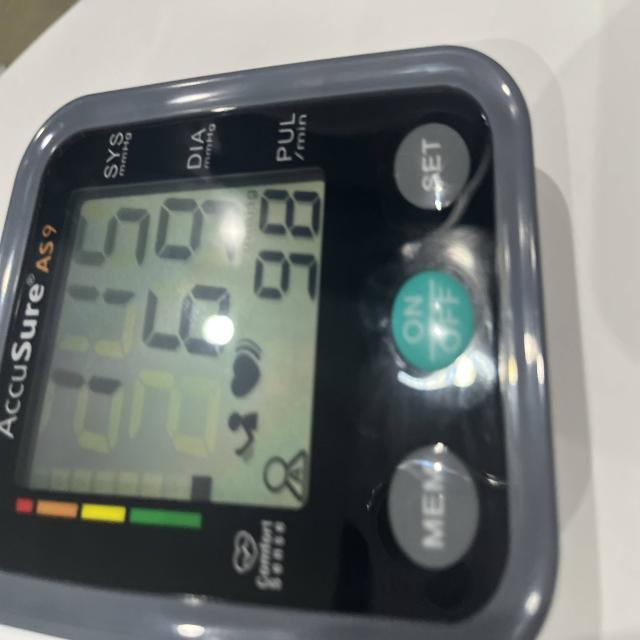bp: (0, 44, 562, 640)
